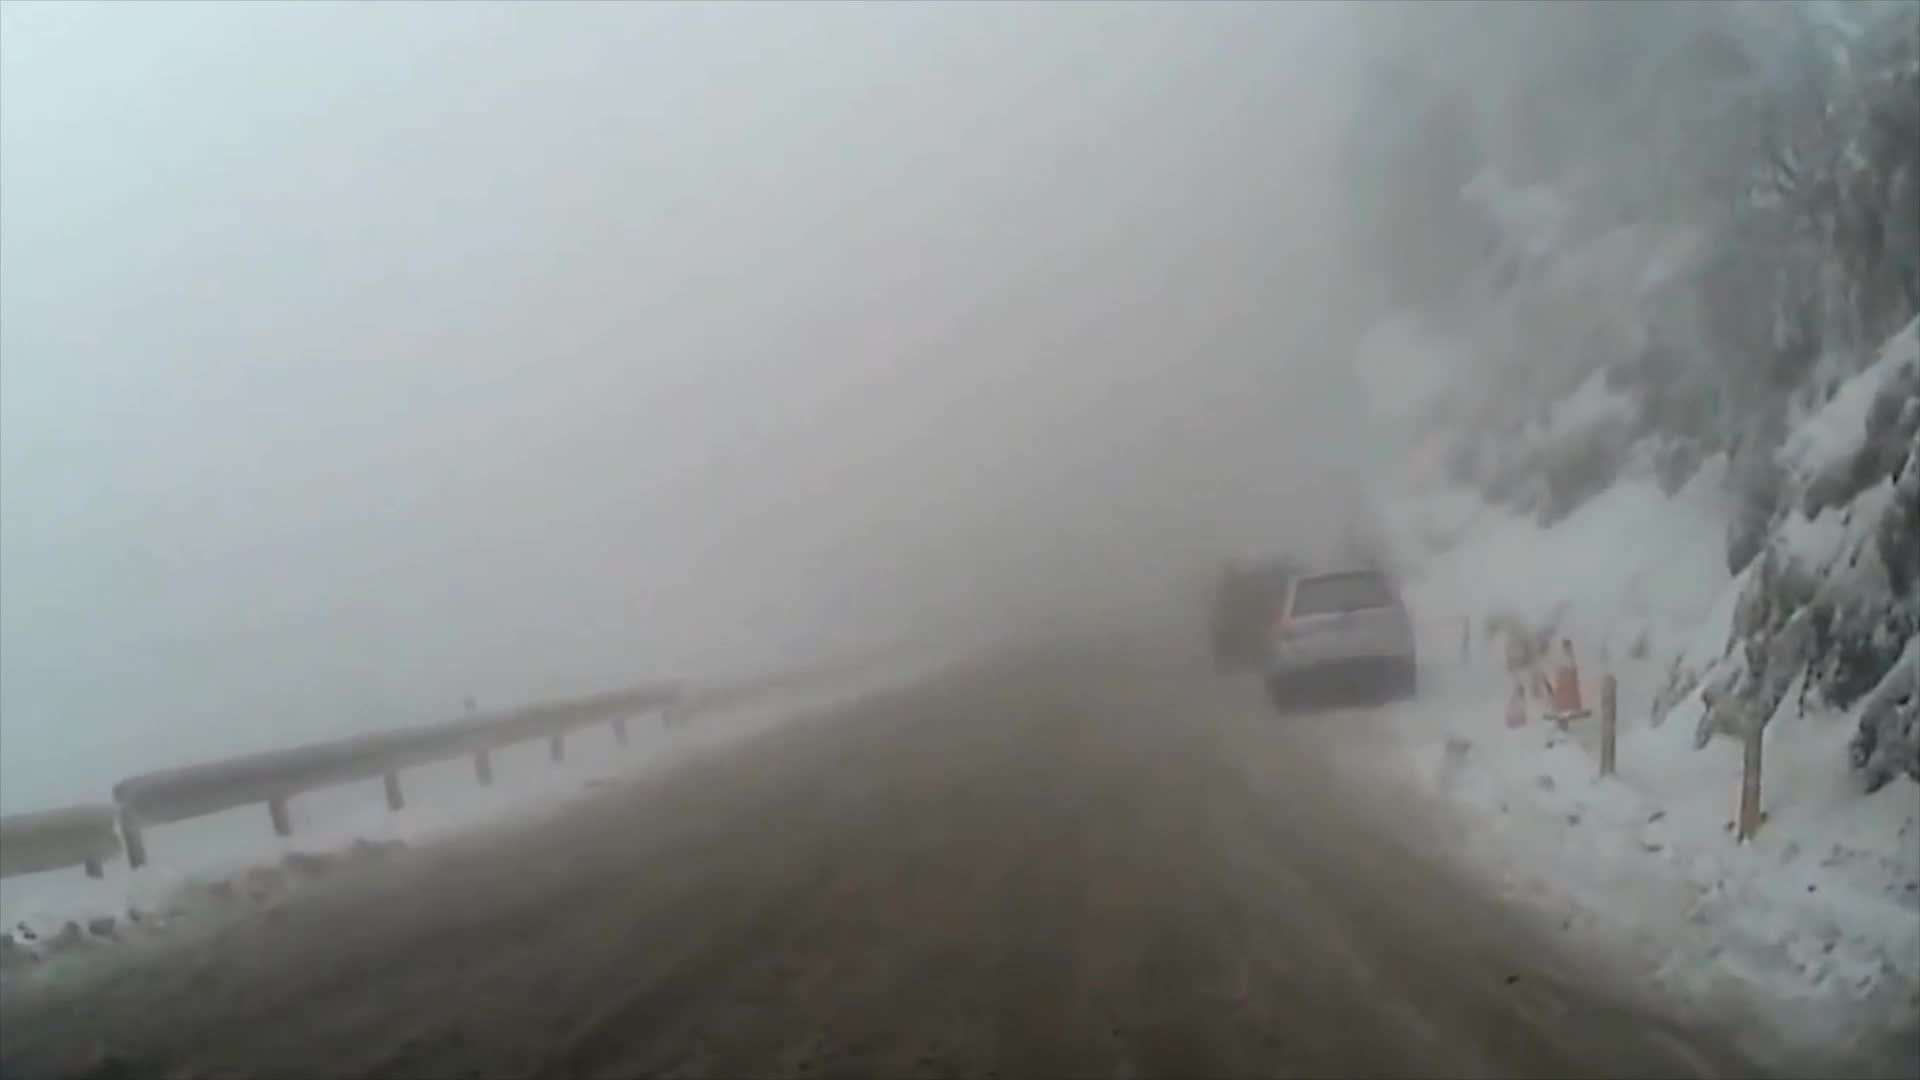vehicle: (1262, 563, 1416, 709), (1203, 556, 1319, 683)
